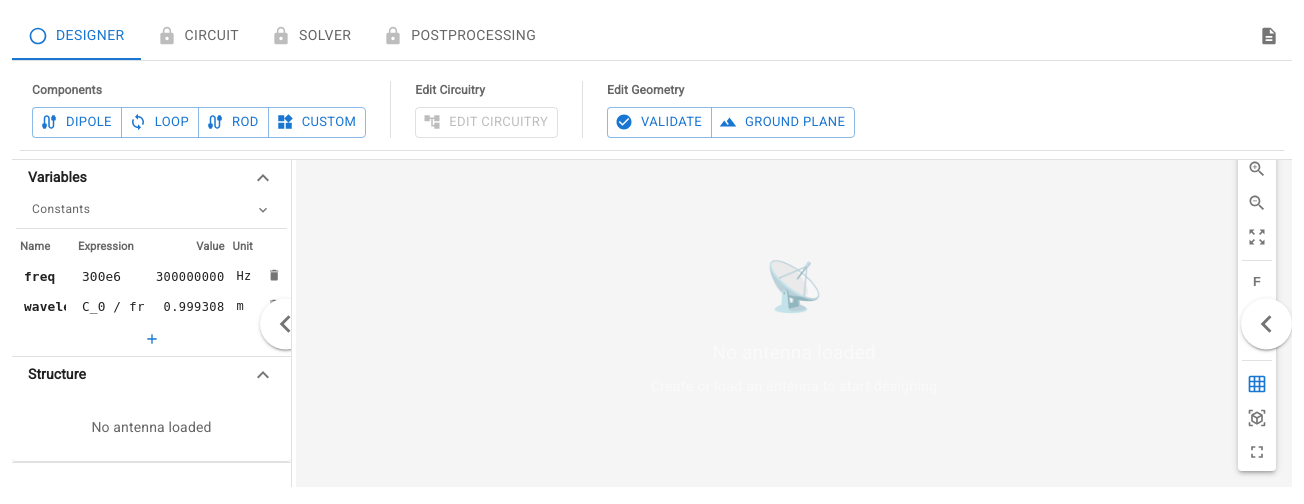
DesignPage Results Navigation › View Results Action › should render without errors when no results exist
Expected: the tab "Solver" is shown, [255, 12, 367, 60]
Step 1. Click the tab "Postprocessing" → (460, 36), box [367, 12, 552, 60]
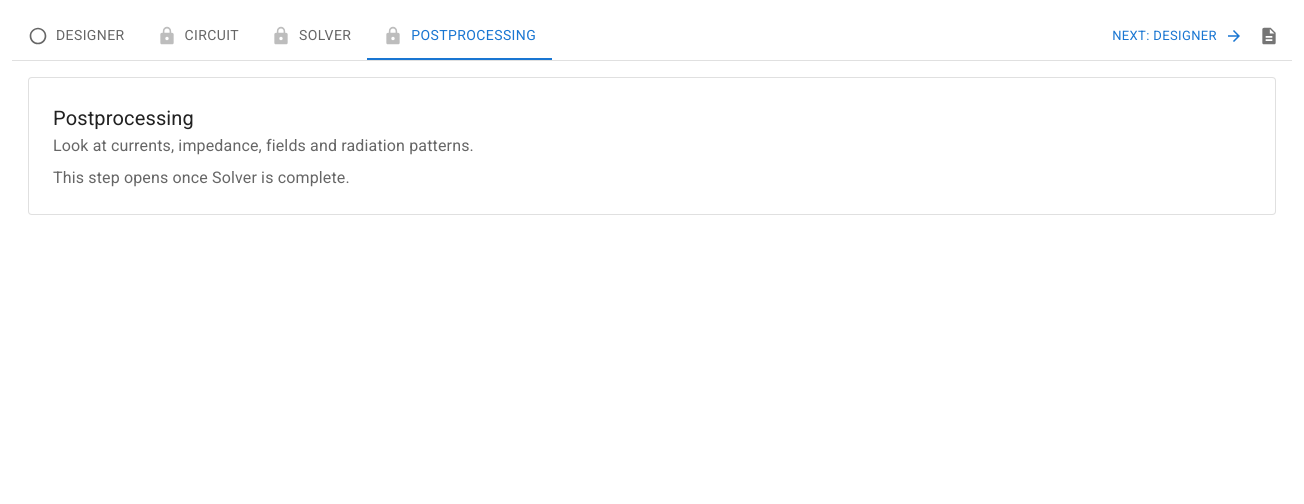
Expected: the text "This step opens once Solver is complete." is shown, [53, 168, 350, 187]
